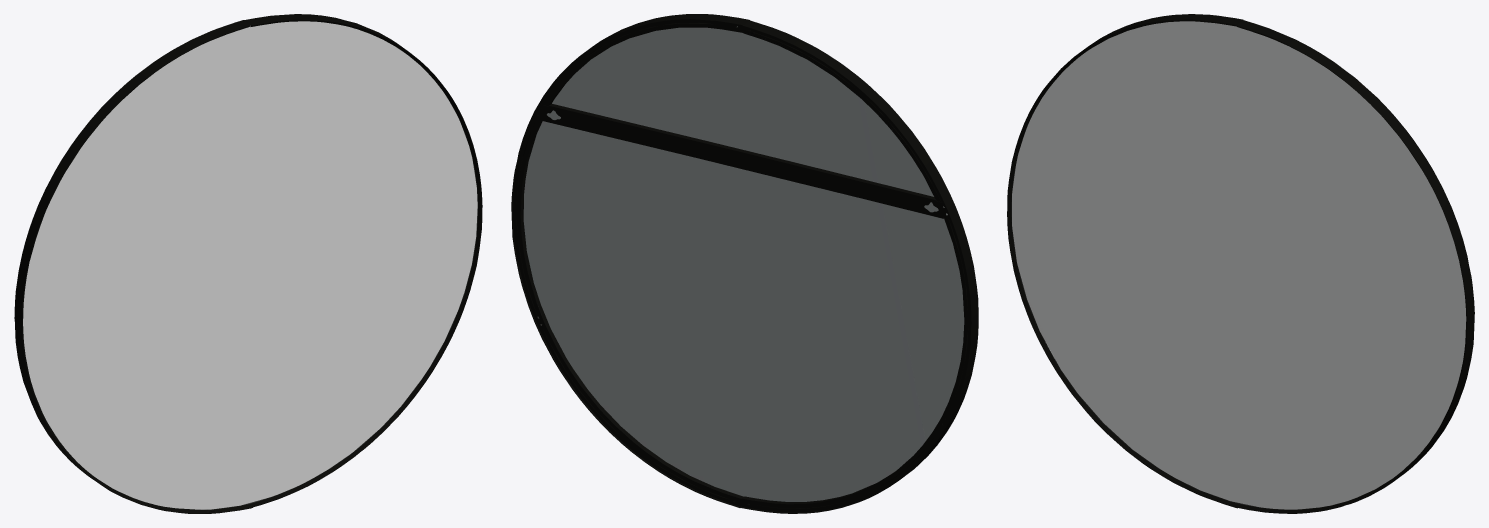
File: lindbyn_lustro_50458614.glb
3 views of the same model, side by side, from view 1: azimuth 30°, elevation 25°; view 2: azimuth 150°, elevation 25°; view 3: azimuth 330°, elevation 25° (orthographic).
Visible parts, largest first — view 1: lindbyn_lustro_50458614; view 2: lindbyn_lustro_50458614; view 3: lindbyn_lustro_50458614.
Part boxes in pixels (x1=…): lindbyn_lustro_50458614: x1=14, y1=14, x2=482, y2=513; lindbyn_lustro_50458614: x1=511, y1=14, x2=978, y2=513; lindbyn_lustro_50458614: x1=1007, y1=14, x2=1474, y2=513.
Size of the model in its own units: 0.7981 by 0.8001 by 0.0251.
Materials: 2 (2 with a texture image).
